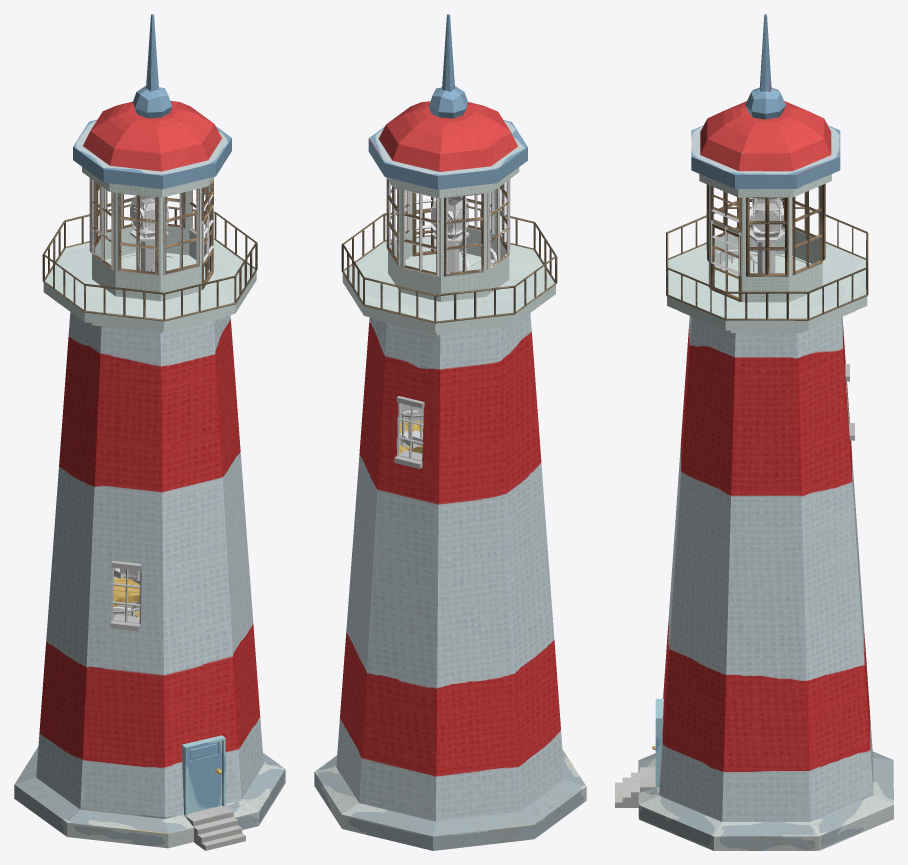
Rendered from lighthouse_2.fbx.
The picture shows the model from 3 angles, left to right: view 1: azimuth 30°, elevation 25°; view 2: azimuth 150°, elevation 25°; view 3: azimuth 270°, elevation 25°; orthographic projection.
Visible parts, largest first — view 1: lighthouse, crbIsha, part lighthouse 1, glass of lamp, zabor, glass of lamp.002, glass of lamp.001, Cylinder.001, Cube, window1, DoorKosyk, piedistal (+1 smaller); view 2: lighthouse, crbIsha, part lighthouse 1, glass of lamp, glass of lamp.002, zabor, glass of lamp.001, window2, stair1, glass door, piedistal; view 3: lighthouse, crbIsha, part lighthouse 1, glass of lamp, glass of lamp.001, zabor, Cube, glass door, glass of lamp.002, Cylinder.004, piedistal, DoorKosyk.
Part boxes in pixels (x1,y1,x2,y2): lighthouse: (14, 312, 285, 848); crbIsha: (73, 14, 231, 189); part lighthouse 1: (43, 240, 256, 333); glass of lamp: (82, 167, 214, 301); zabor: (42, 204, 257, 321); glass of lamp.002: (89, 178, 213, 275); glass of lamp.001: (91, 179, 213, 275); Cylinder.001: (188, 741, 221, 813); Cube: (184, 805, 245, 850); window1: (110, 561, 141, 631); DoorKosyk: (181, 735, 225, 815); piedistal: (130, 227, 168, 271); lighthouse: (314, 313, 586, 850); crbIsha: (368, 14, 527, 189); part lighthouse 1: (342, 236, 555, 335); glass of lamp: (386, 167, 519, 301); glass of lamp.002: (386, 178, 510, 276); zabor: (341, 206, 557, 323); glass of lamp.001: (386, 179, 509, 276); window2: (394, 396, 424, 468); stair1: (400, 247, 496, 448); glass door: (412, 192, 451, 256); piedistal: (431, 228, 469, 272); lighthouse: (638, 316, 893, 850); crbIsha: (691, 14, 840, 188); part lighthouse 1: (667, 243, 867, 332); glass of lamp: (699, 174, 831, 302); glass of lamp.001: (706, 184, 825, 276); zabor: (666, 207, 868, 320); Cube: (615, 767, 658, 807); glass door: (710, 223, 741, 301); glass of lamp.002: (711, 187, 821, 276); Cylinder.004: (750, 199, 783, 232); piedistal: (749, 230, 784, 273); DoorKosyk: (655, 698, 663, 786).
Size of the model in its own units: 1709 by 5789 by 1866.
